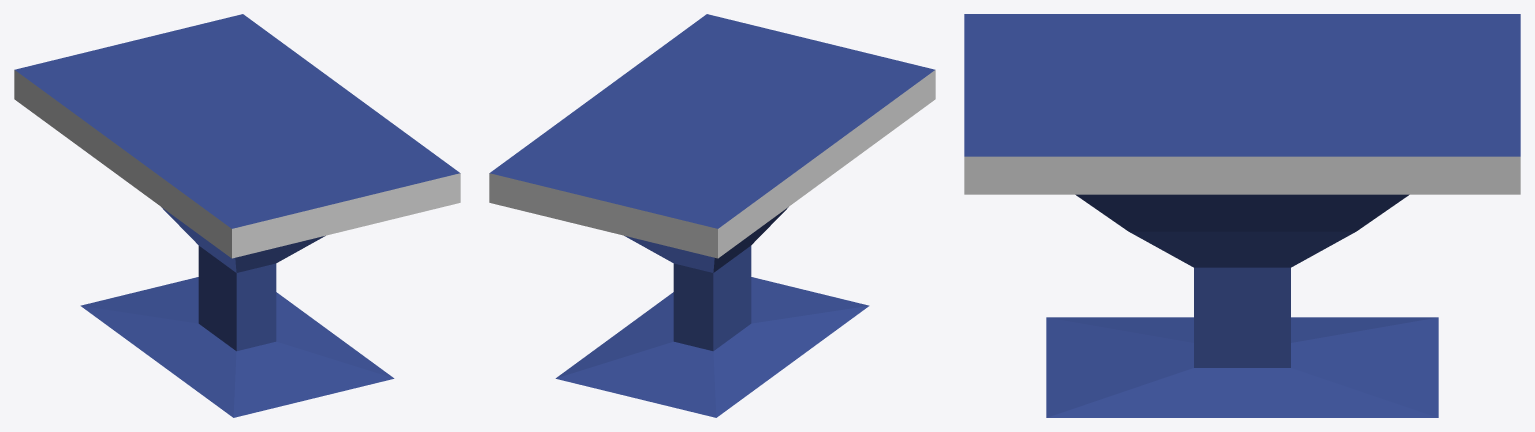
Rendered from stand_table.glb.
3 renders of one model, left to right at view 1: azimuth 30°, elevation 25°; view 2: azimuth 150°, elevation 25°; view 3: azimuth 270°, elevation 25°, orthographic. The views are drawn at different scales.
Visible parts, largest first — view 1: Cube; view 2: Cube; view 3: Cube.
Boxes of the visible parts, box(x1,y1,x2,y2) form: Cube: box(14, 14, 460, 417); Cube: box(489, 14, 935, 417); Cube: box(964, 14, 1520, 417).
Size of the model in its own units: 4.67 by 4.31 by 7.7.
